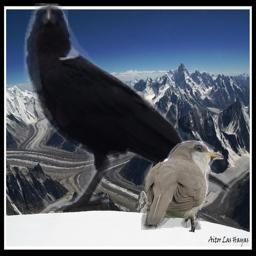Crow: (22, 3, 232, 211)
Cuckoo: (141, 140, 224, 230)
